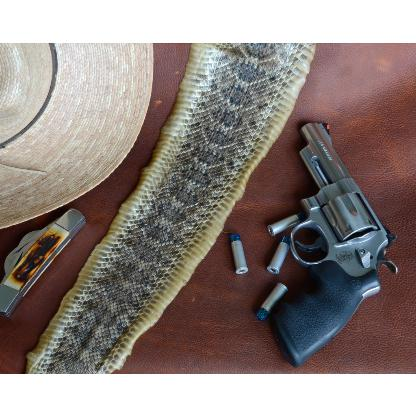gun: (262, 119, 400, 368)
